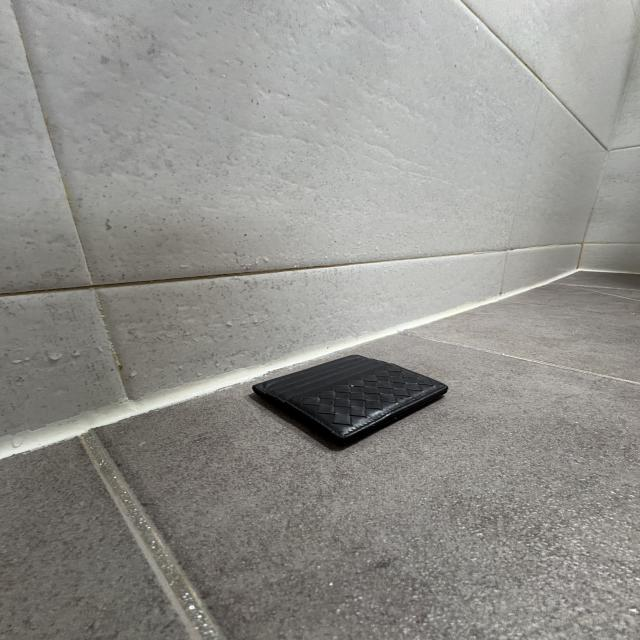wallet: (248, 352, 451, 454)
